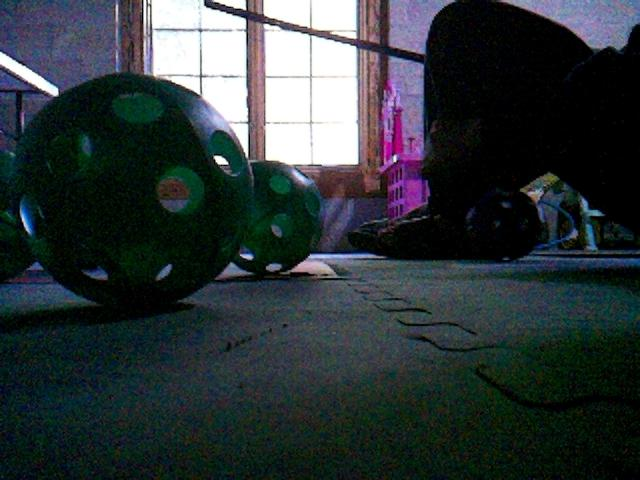Green: (11, 72, 255, 306), (230, 160, 322, 274), (2, 148, 37, 291)
